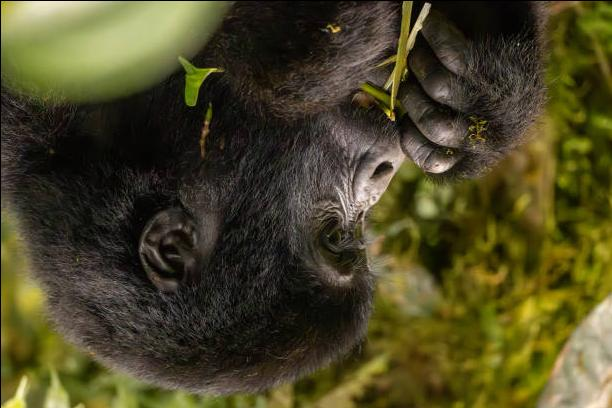goriile_montagne: (0, 0, 540, 408)
